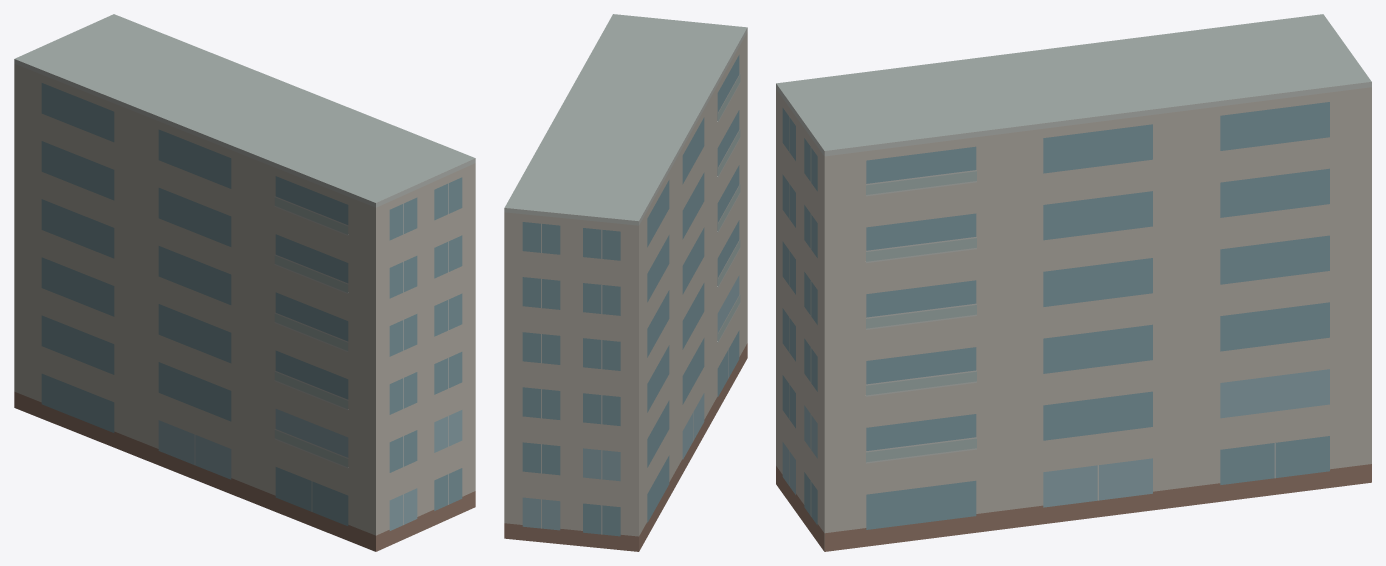
The model's file is survey-upis-32612665.glb.
3 views of the same model, side by side, from view 1: azimuth 30°, elevation 25°; view 2: azimuth 150°, elevation 25°; view 3: azimuth 270°, elevation 25° (orthographic). The views are drawn at different scales.
Parts seen in each view (by area): view 1: survey-upis-32612665.tmp; view 2: survey-upis-32612665.tmp; view 3: survey-upis-32612665.tmp.
Boxes of the visible parts, x1,y1,x2,y2 form: survey-upis-32612665.tmp: (14,14,475,551); survey-upis-32612665.tmp: (504,14,747,551); survey-upis-32612665.tmp: (776,14,1371,551).
Size of the model in its own units: 13.21 by 18 by 24.25.
